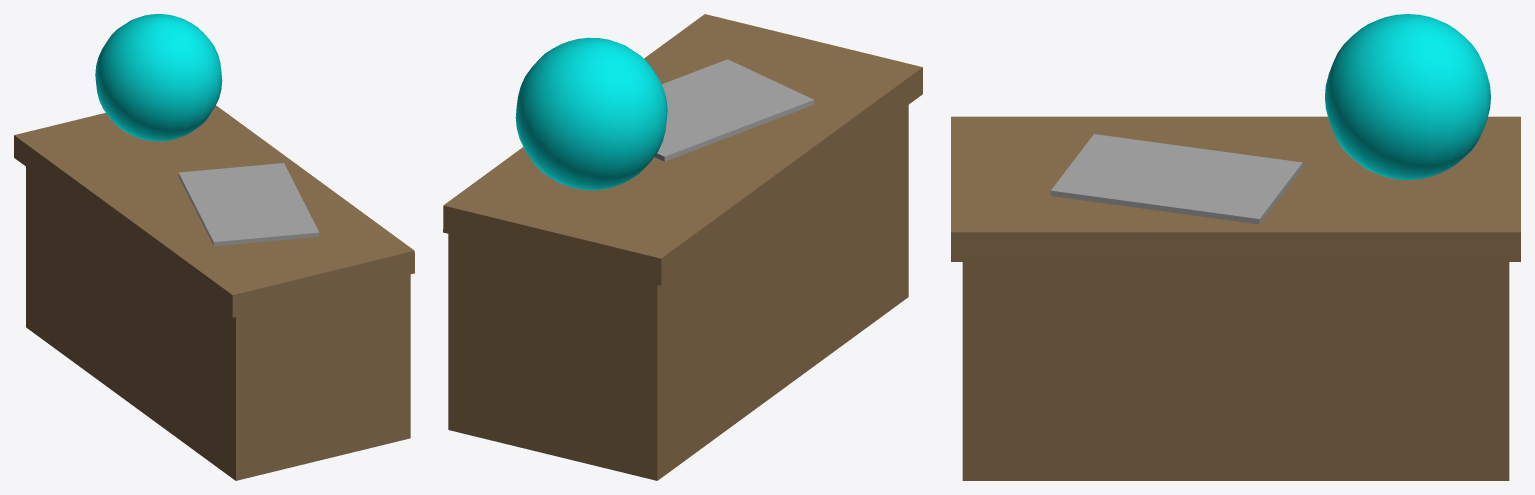
The model's file is table_Work_Lv1.fbx.
3 views of the same model, side by side, from view 1: azimuth 30°, elevation 25°; view 2: azimuth 150°, elevation 25°; view 3: azimuth 270°, elevation 25° (orthographic). The views are drawn at different scales.
Parts seen in each view (by area): view 1: polySurface86, pSphere1, table3; view 2: polySurface86, pSphere1, table3; view 3: polySurface86, pSphere1, table3.
Boxes of the visible parts, x1,y1,x2,y2 form: polySurface86: (14, 105, 414, 480); pSphere1: (95, 14, 222, 141); table3: (178, 163, 319, 246); polySurface86: (443, 14, 922, 480); pSphere1: (515, 37, 667, 190); table3: (654, 59, 814, 161); polySurface86: (951, 116, 1520, 480); pSphere1: (1325, 14, 1490, 179); table3: (1050, 134, 1302, 224).
Size of the model in its own units: 45.95 by 75.42 by 95.47.
